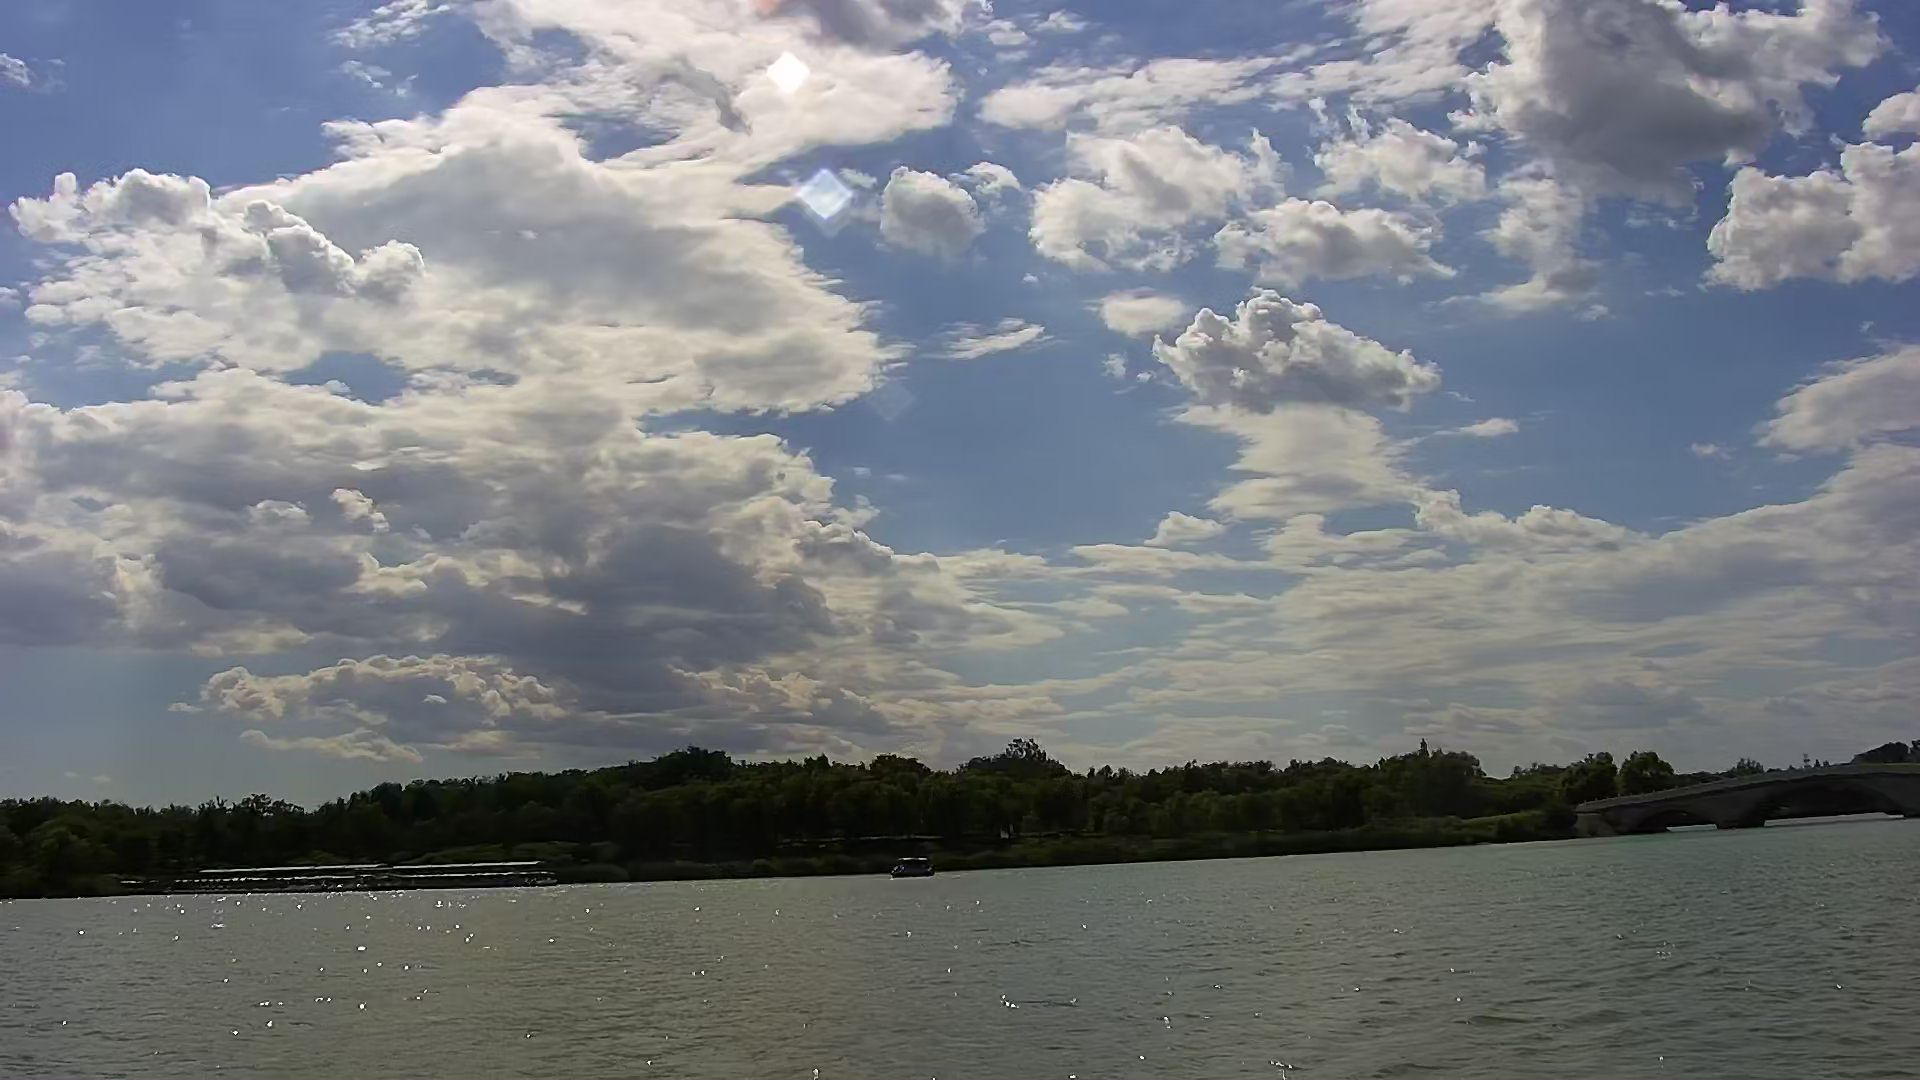boat: (887, 849, 938, 882)
bridge: (1582, 765, 1920, 835)
harbor: (202, 856, 558, 893)
